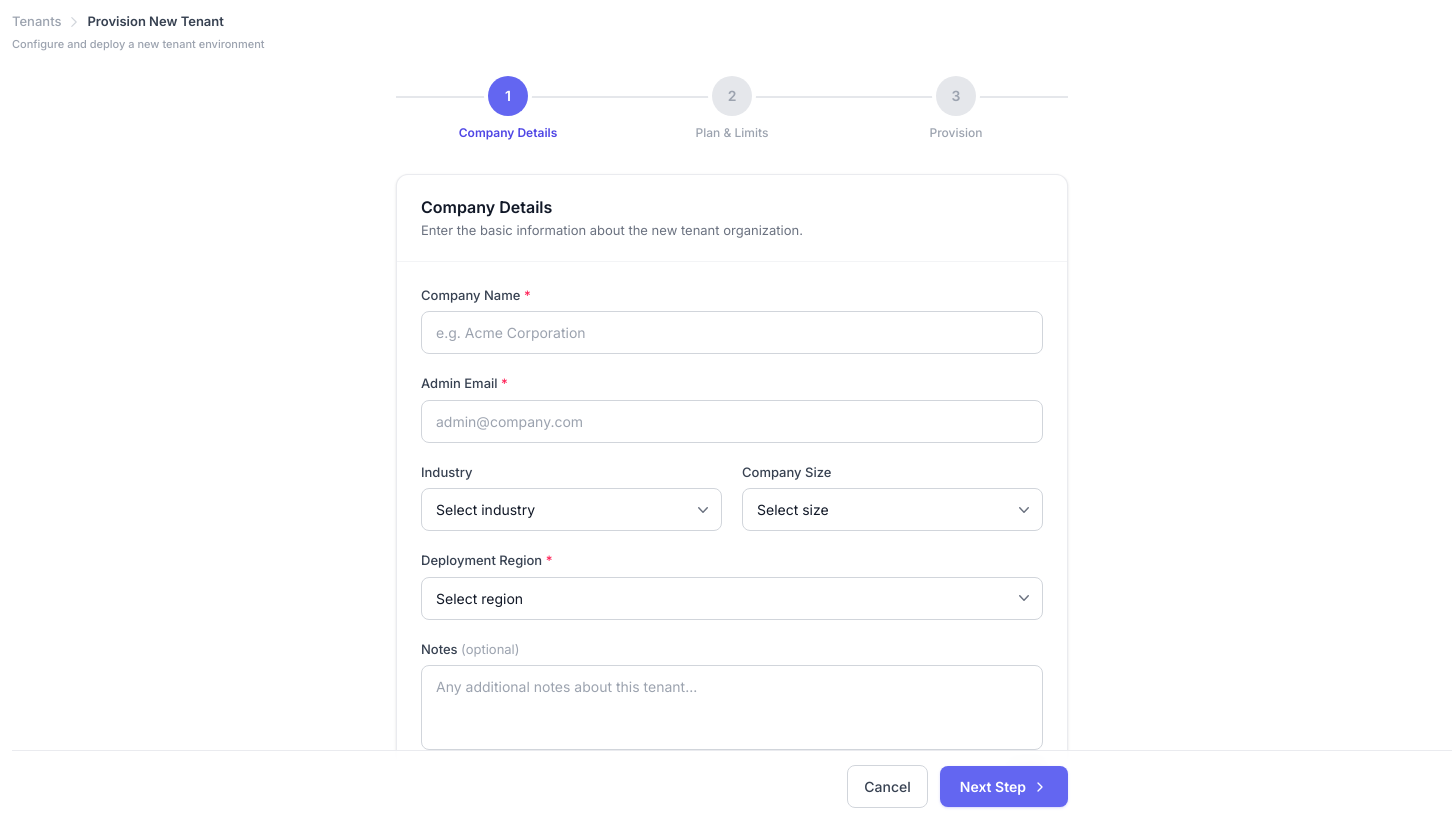
Test: Provisioning Wizard Integration › validation prevents advancing › should show errors and not advance when required fields are empty on step 1
The image size is (1452, 822).
Try to advance without filling anything
Step 1. Click the button with test id "next-button" → (1004, 786), box left=940, top=766, right=1068, bottom=807
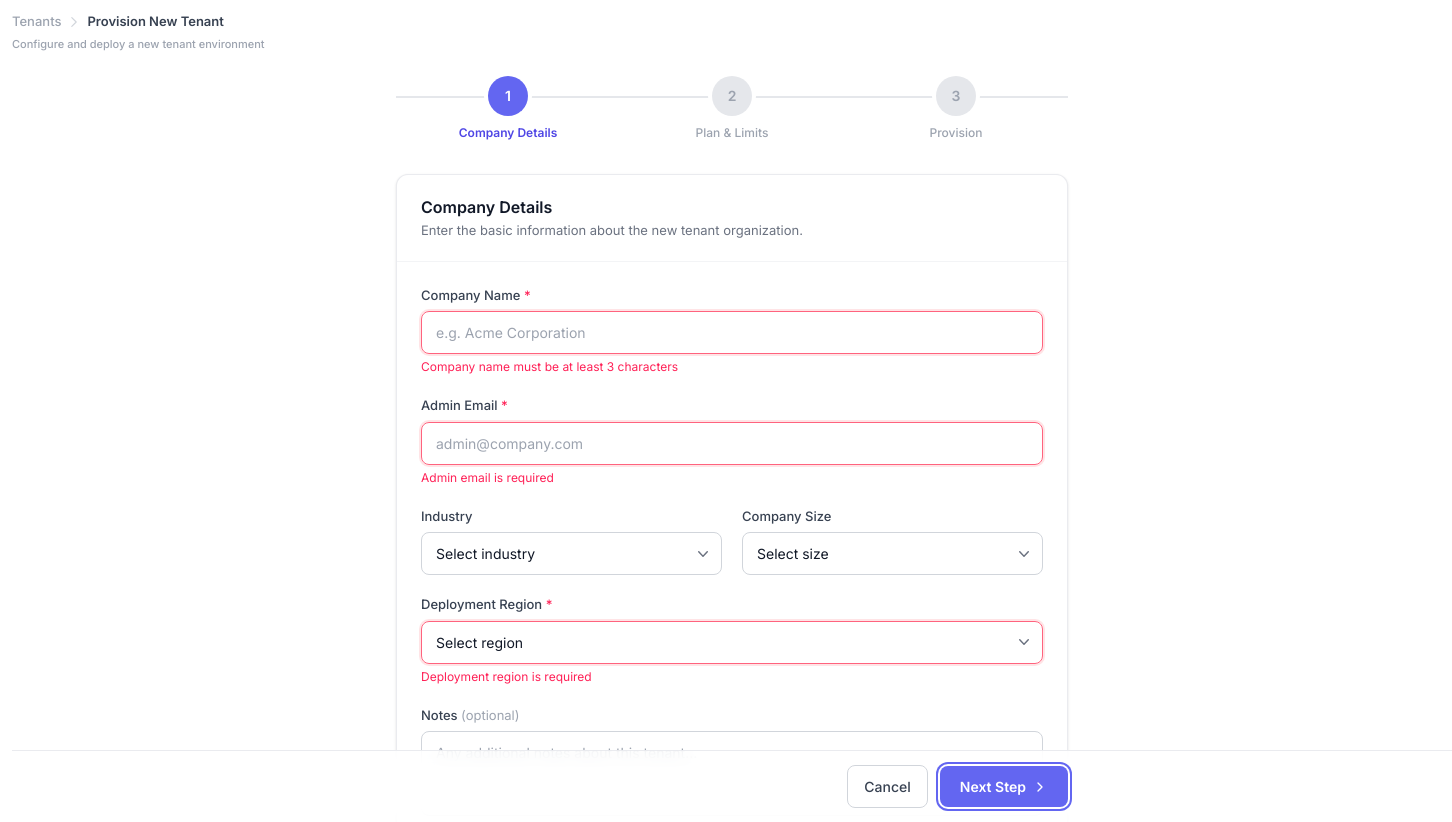
Expected: the text "Company name must be at least 3 characters" is shown, left=421, top=359, right=678, bottom=374
